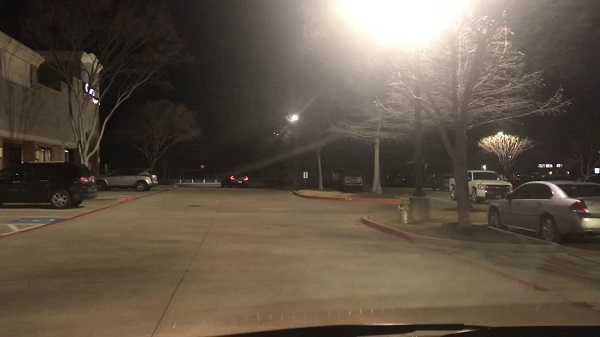car: (489, 176, 598, 241), (2, 160, 91, 209), (98, 167, 159, 192), (223, 171, 250, 186)
truck: (448, 166, 514, 203)
